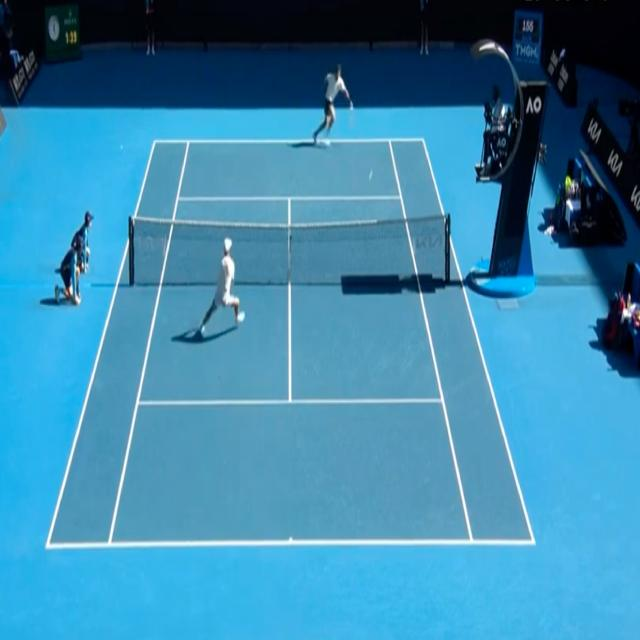ball: (368, 170, 373, 182)
